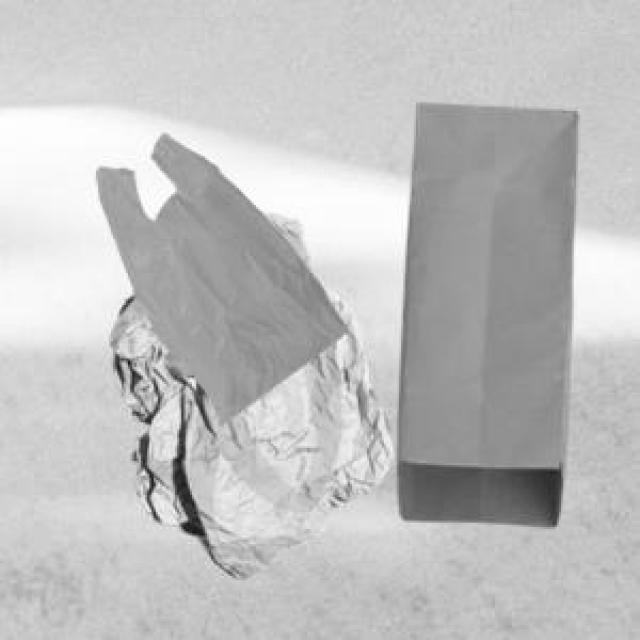paper: (107, 209, 388, 576), (395, 100, 574, 523)
